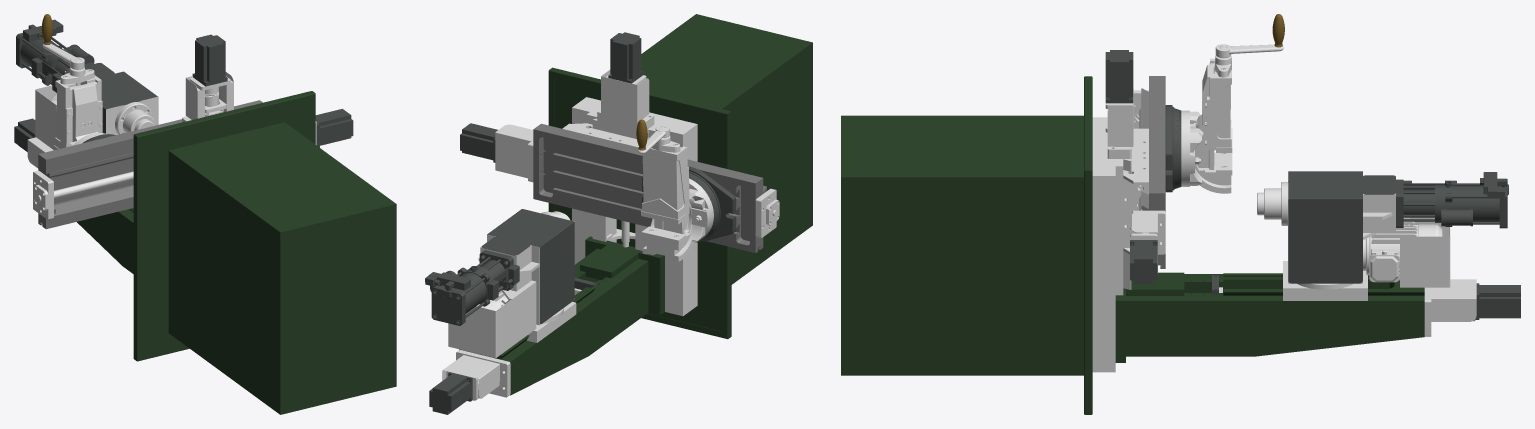
Rendered from vertical Milling Machine.fbx.
3 renders of one model, left to right at view 1: azimuth 30°, elevation 25°; view 2: azimuth 150°, elevation 25°; view 3: azimuth 270°, elevation 25°, orthographic. The views are drawn at different scales.
Visible parts, largest first — view 1: Áîáûøêà-Âûòÿíóòü2, Cut-Extrude10, Cut-Extrude2 (×3), Ñêðóãëåíèå1 (×4), Èìïîðòèðîâàííûé1, Ëèíåéíûé ìàññèâ1, Kes-Ekstrüzyon8, Ðåáðî-êðîìêà2, M6x1.0 Diþli Delik1, Âûðåç-Âûòÿíóòü6, Âûðåç-Ïîâåðíóòü1, Cut-Extrude4 (+3 smaller); view 2: Áîáûøêà-Âûòÿíóòü2, Cut-Extrude10, Ëèíåéíûé ìàññèâ1, Ñêðóãëåíèå1 (×5), Cut-Extrude16, Èìïîðòèðîâàííûé1, Cut-Extrude2 (×3), Ðåáðî-êðîìêà2, M6x1.0 Diþli Delik1, Kes-Ekstrüzyon23, Kes-Ekstrüzyon8, Cut-Extrude4 (×2) (+7 smaller); view 3: Áîáûøêà-Âûòÿíóòü2, Ëèíåéíûé ìàññèâ1, Ñêðóãëåíèå1 (×4), Cut-Extrude16, Èìïîðòèðîâàííûé1, Cut-Extrude2 (×3), Ðåáðî-êðîìêà2, Cut-Extrude10, Âûðåç-Âûòÿíóòü6 (×2), Cut-Extrude21, Kes-Ekstrüzyon8, M6x1.0 Diþli Delik1 (+5 smaller).
Boxes of the visible parts, bbox=[...] form: Áîáûøêà-Âûòÿíóòü2: bbox=[133, 91, 396, 414]; Cut-Extrude10: bbox=[38, 100, 262, 229]; Cut-Extrude2 (×3): bbox=[14, 34, 353, 151]; Ñêðóãëåíèå1 (×4): bbox=[27, 71, 233, 168]; Èìïîðòèðîâàííûé1: bbox=[16, 19, 94, 92]; Ëèíåéíûé ìàññèâ1: bbox=[77, 208, 133, 273]; Kes-Ekstrüzyon8: bbox=[69, 81, 97, 141]; Ðåáðî-êðîìêà2: bbox=[35, 85, 56, 149]; M6x1.0 Diþli Delik1: bbox=[55, 75, 101, 148]; Âûðåç-Âûòÿíóòü6: bbox=[115, 102, 155, 134]; Âûðåç-Ïîâåðíóòü1: bbox=[37, 171, 133, 201]; Cut-Extrude4: bbox=[33, 170, 53, 219]; Áîáûøêà-Âûòÿíóòü2: bbox=[548, 14, 812, 339]; Cut-Extrude10: bbox=[533, 123, 766, 252]; Ëèíåéíûé ìàññèâ1: bbox=[459, 236, 664, 395]; Ñêðóãëåíèå1 (×5): bbox=[442, 70, 649, 398]; Cut-Extrude16: bbox=[572, 97, 697, 316]; Èìïîðòèðîâàííûé1: bbox=[425, 250, 519, 325]; Cut-Extrude2 (×3): bbox=[429, 32, 643, 414]; Ðåáðî-êðîìêà2: bbox=[448, 282, 536, 357]; M6x1.0 Diþli Delik1: bbox=[642, 146, 688, 219]; Kes-Ekstrüzyon23: bbox=[642, 166, 735, 242]; Kes-Ekstrüzyon8: bbox=[642, 147, 695, 261]; Cut-Extrude4 (×2): bbox=[597, 109, 776, 237]; Áîáûøêà-Âûòÿíóòü2: bbox=[841, 76, 1092, 414]; Ëèíåéíûé ìàññèâ1: bbox=[1115, 272, 1424, 362]; Ñêðóãëåíèå1 (×4): bbox=[1108, 87, 1476, 321]; Cut-Extrude16: bbox=[1092, 117, 1131, 372]; Èìïîðòèðîâàííûé1: bbox=[1396, 172, 1508, 228]; Cut-Extrude2 (×3): bbox=[1105, 50, 1520, 319]; Ðåáðî-êðîìêà2: bbox=[1400, 217, 1450, 287]; Cut-Extrude10: bbox=[1141, 76, 1165, 268]; Âûðåç-Âûòÿíóòü6 (×2): bbox=[1257, 182, 1367, 300]; Cut-Extrude21: bbox=[1123, 128, 1148, 254]; Kes-Ekstrüzyon8: bbox=[1195, 63, 1231, 193]; M6x1.0 Diþli Delik1: bbox=[1209, 58, 1231, 150].
Size of the model in its own units: 1114 by 991 by 1960.
